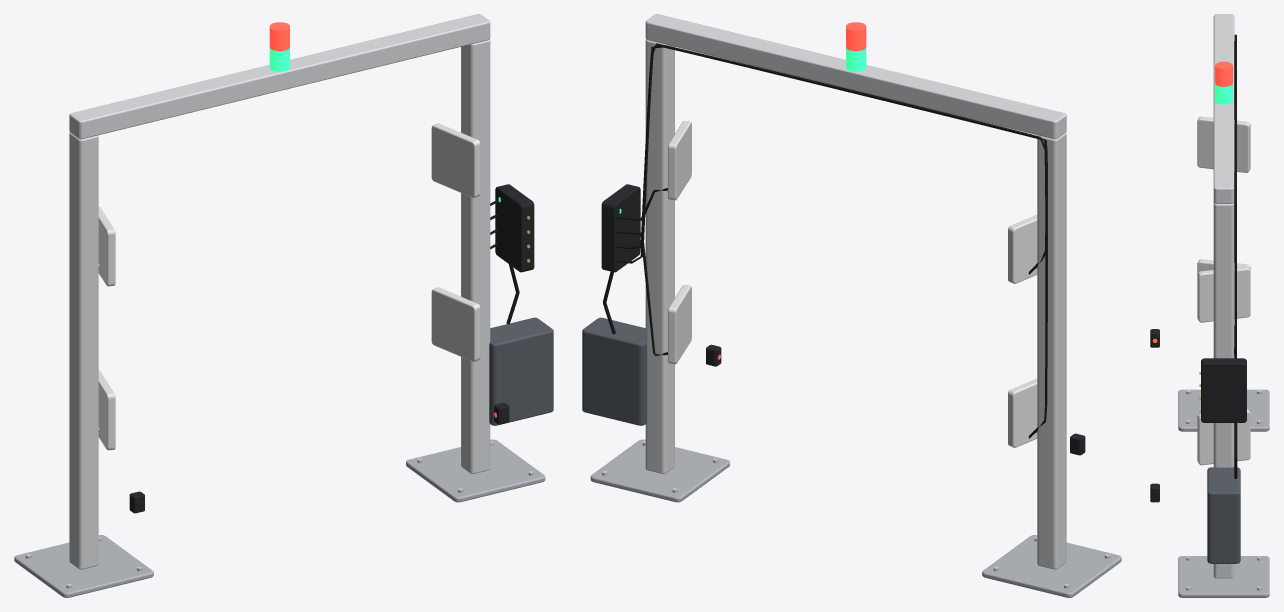
The model's file is bramkaMontaz.glb.
The picture shows the model from 3 angles, left to right: view 1: azimuth 30°, elevation 25°; view 2: azimuth 150°, elevation 25°; view 3: azimuth 270°, elevation 25°; orthographic projection. The views are drawn at different scales.
Visible parts, largest first — view 1: 2. Słup lewy, 4. Belka górna, 2. Słup prawy, Antena panelowa UHF (polaryzacja kołowa) (×4), 6. Skrzynka sterująca (zasilacz, PLC, sieć), 1. Podstawa lewa, 1. Podstawa prawa, 5. Czytnik UHF (4 porty), 9. Lampa sygnalizacyjna; view 2: 2. Słup lewy, 4. Belka górna, 2. Słup prawy, Antena panelowa UHF (polaryzacja kołowa) (×4), 6. Skrzynka sterująca (zasilacz, PLC, sieć), 1. Podstawa lewa, 1. Podstawa prawa, 7. Kable antenowe (koncentryczne), 5. Czytnik UHF (4 porty), 9. Lampa sygnalizacyjna; view 3: Antena panelowa UHF (polaryzacja kołowa) (×4), 2. Słup prawy, 4. Belka górna, 1. Podstawa prawa, 6. Skrzynka sterująca (zasilacz, PLC, sieć), 5. Czytnik UHF (4 porty), 1. Podstawa lewa, 7. Kable antenowe (koncentryczne), 9. Lampa sygnalizacyjna, 8. Fotokomórka (wyzwalanie odczytu).
Boxes of the visible parts, left/top/right/bottom form: 2. Słup lewy: left=69, top=133, right=98, bottom=569; 4. Belka górna: left=69, top=14, right=490, bottom=139; 2. Słup prawy: left=461, top=39, right=490, bottom=473; Antena panelowa UHF (polaryzacja kołowa) (×4): left=98, top=123, right=480, bottom=450; 6. Skrzynka sterująca (zasilacz, PLC, sieć): left=489, top=317, right=553, bottom=425; 1. Podstawa lewa: left=14, top=535, right=153, bottom=597; 1. Podstawa prawa: left=406, top=439, right=545, bottom=502; 5. Czytnik UHF (4 porty): left=495, top=184, right=534, bottom=272; 9. Lampa sygnalizacyjna: left=269, top=22, right=289, bottom=71; 2. Słup lewy: left=1037, top=133, right=1066, bottom=569; 4. Belka górna: left=645, top=14, right=1066, bottom=139; 2. Słup prawy: left=645, top=39, right=674, bottom=473; Antena panelowa UHF (polaryzacja kołowa) (×4): left=668, top=121, right=1037, bottom=447; 6. Skrzynka sterująca (zasilacz, PLC, sieć): left=582, top=317, right=646, bottom=425; 1. Podstawa lewa: left=982, top=535, right=1121, bottom=597; 1. Podstawa prawa: left=590, top=439, right=729, bottom=502; 7. Kable antenowe (koncentryczne): left=603, top=43, right=1047, bottom=438; 5. Czytnik UHF (4 porty): left=601, top=184, right=640, bottom=272; 9. Lampa sygnalizacyjna: left=846, top=22, right=866, bottom=71; Antena panelowa UHF (polaryzacja kołowa) (×4): left=1197, top=116, right=1250, bottom=465; 2. Słup prawy: left=1213, top=202, right=1234, bottom=578; 4. Belka górna: left=1213, top=14, right=1234, bottom=203; 1. Podstawa prawa: left=1178, top=556, right=1269, bottom=597; 6. Skrzynka sterująca (zasilacz, PLC, sieć): left=1207, top=467, right=1240, bottom=563; 5. Czytnik UHF (4 porty): left=1199, top=358, right=1246, bottom=422; 1. Podstawa lewa: left=1178, top=389, right=1269, bottom=431; 7. Kable antenowe (koncentryczne): left=1234, top=34, right=1237, bottom=478; 9. Lampa sygnalizacyjna: left=1215, top=61, right=1232, bottom=104; 8. Fotokomórka (wyzwalanie odczytu): left=1150, top=329, right=1159, bottom=502.
Bounding box in the file's own units: 2.59 × 2.42 × 0.6073.
